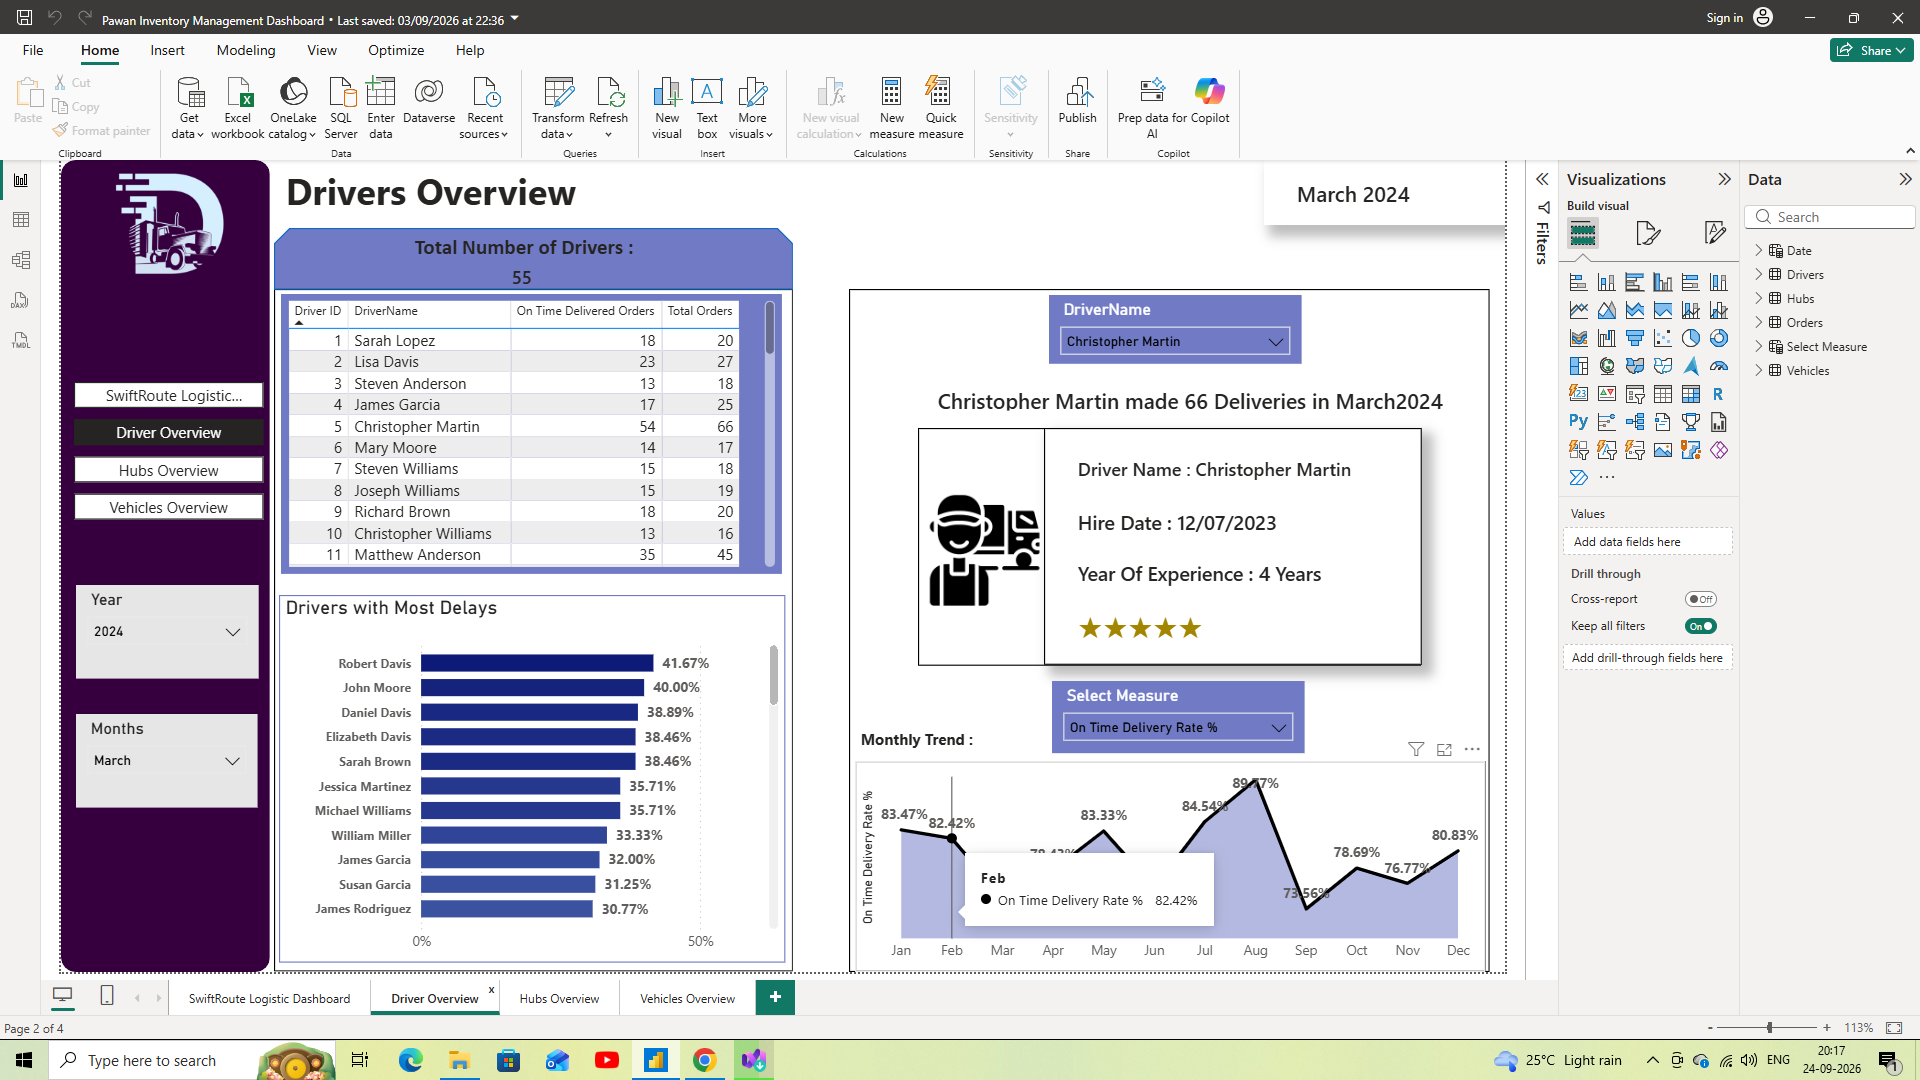

The dashboard page shown, as its layout file describes it:
{"tool":"powerbi","page":{"name":"Driver Overview","canvas":[1280,720],"ordinal":1},"visuals":[{"type":"shape","box":[189.2,114.8,460.2,605.2],"z":0},{"type":"shape","box":[189.2,60.2,460.2,54.6],"z":1000},{"type":"textbox","box":[307.8,60.2,206.1,32.9],"z":2000},{"type":"cardVisual","fields":{"Data":["CountNonNull(Drivers.DriverID)"]},"box":[370.8,69.6,90.4,64.9],"z":3000},{"type":"barChart","title":"Drivers with Most Delays","fields":{"Category":["Drivers.DriverName"],"Y":["Orders.Delayed Delivery Rate"]},"box":[193.4,386,448.7,326],"z":4000},{"type":"textbox","box":[193.9,0,533.6,60.2],"z":5000},{"type":"cardVisual","fields":{"Data":["Date.Year Month Title"]},"box":[1066.3,0,213.7,58],"z":6000},{"type":"shape","box":[0,0,185.3,720],"z":7000},{"type":"slicer","fields":{"Values":["Date.Year"]},"box":[13.2,376.5,161.9,82.8],"z":8000},{"type":"slicer","fields":{"Values":["Date.Months"]},"box":[13.2,491.3,161.5,82.7],"z":9000},{"type":"image","box":[0,1.9,194.8,116.7],"z":10000},{"type":"shape","box":[699.1,114.4,568.1,605.6],"z":11000},{"type":"slicer","fields":{"Values":["Drivers.DriverName"]},"box":[876.2,119.5,224,61.2],"z":12000},{"type":"cardVisual","fields":{"Data":["Drivers.Drivers Title"]},"box":[748.2,186.4,514.8,53.6],"z":13000},{"type":"cardVisual","fields":{"Data":["Drivers.Driver name title","Drivers.Hire Date title","Drivers.YOE","Drivers.Star Rating"]},"box":[864.2,237.3,344.8,210.4],"z":14000},{"type":"shape","box":[760.3,237.4,446.1,210.8],"z":15000},{"type":"cardVisual","fields":{"Data":["Drivers.Driver name title","Drivers.Hire Date title","Drivers.YOE","Drivers.Star Rating"]},"box":[871.4,237.4,335.1,209.9],"z":16000},{"type":"image","box":[766.9,245.9,104.5,201.4],"z":17000},{"type":"areaChart","fields":{"Y":["Date.On Time Delivery Rate %"],"Category":["Date.Month ShortForm"]},"box":[703.8,533,558.7,187.3],"z":18000},{"type":"slicer","fields":{"Values":["Select Measure.Select Measure"]},"box":[879.1,462.1,224,64],"z":19000},{"type":"pageNavigator","box":[11.6,197,168.4,123.6],"z":20000},{"type":"tableEx","title":"Experience vs Rating","fields":{"Values":["Orders.Driver ID","Drivers.DriverName","Orders.On Time Delivered Orders","Orders.Total Orders"]},"box":[195.2,119.1,444.2,248.1],"z":21000},{"type":"textbox","box":[698.6,500.1,120.4,32.9],"z":22000}]}

Visuals, with their boxes on the page's 1280x720 design canvas (x1, y1, x2, y2). These are canvas units, not pixel positions in the 1920x1080 screenshot, which may show the page scaled, cropped or inside an application window:
shape: select_region(189, 115, 649, 720)
shape: select_region(189, 60, 649, 115)
textbox: select_region(308, 60, 514, 93)
cardVisual - CountNonNull(Drivers.DriverID): select_region(371, 70, 461, 134)
"Drivers with Most Delays" barChart: select_region(193, 386, 642, 712)
textbox: select_region(194, 0, 728, 60)
cardVisual - Date.Year Month Title: select_region(1066, 0, 1280, 58)
shape: select_region(0, 0, 185, 720)
slicer - Date.Year: select_region(13, 376, 175, 459)
slicer - Date.Months: select_region(13, 491, 175, 574)
image: select_region(0, 2, 195, 119)
shape: select_region(699, 114, 1267, 720)
slicer - Drivers.DriverName: select_region(876, 120, 1100, 181)
cardVisual - Drivers.Drivers Title: select_region(748, 186, 1263, 240)
cardVisual - Drivers.Driver name title x Drivers.Hire Date title: select_region(864, 237, 1209, 448)
shape: select_region(760, 237, 1206, 448)
cardVisual - Drivers.Driver name title x Drivers.Hire Date title: select_region(871, 237, 1206, 447)
image: select_region(767, 246, 871, 447)
areaChart - Date.On Time Delivery Rate % x Date.Month ShortForm: select_region(704, 533, 1262, 720)
slicer - Select Measure.Select Measure: select_region(879, 462, 1103, 526)
pageNavigator: select_region(12, 197, 180, 321)
"Experience vs Rating" tableEx: select_region(195, 119, 639, 367)
textbox: select_region(699, 500, 819, 533)
